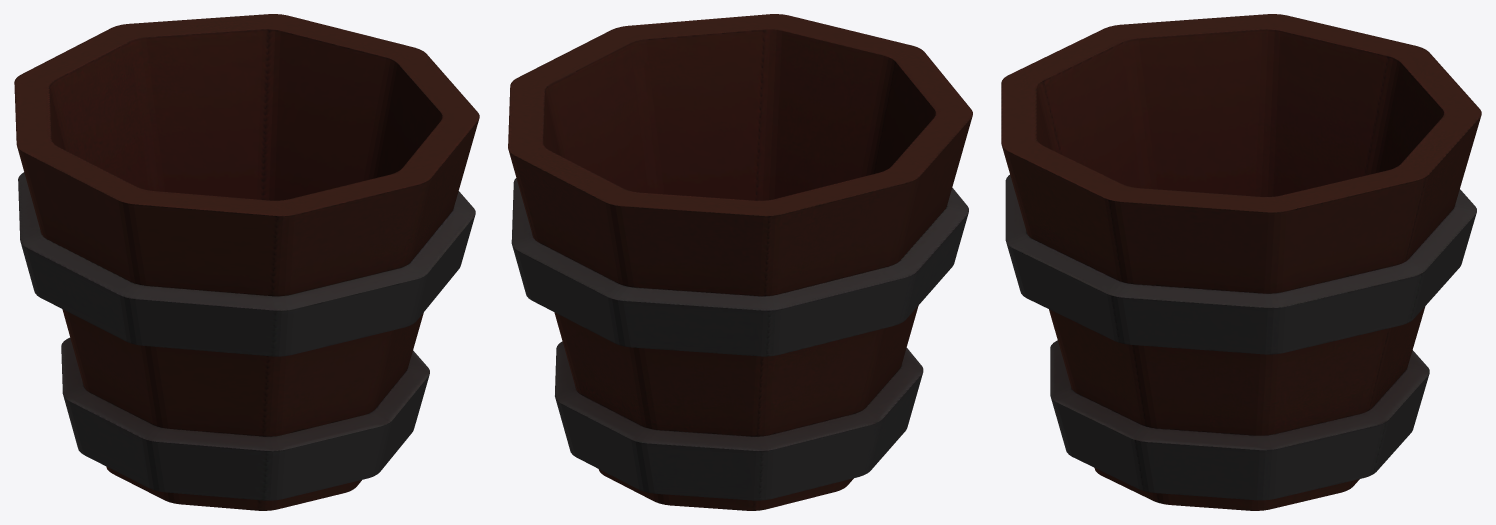
The model's file is BucketFinal.glb.
3 views of the same model, side by side, from view 1: azimuth 30°, elevation 25°; view 2: azimuth 150°, elevation 25°; view 3: azimuth 270°, elevation 25° (orthographic).
Visible parts, largest first — view 1: Cylinder; view 2: Cylinder; view 3: Cylinder.
Boxes of the visible parts, x1,y1,x2,y2 form: Cylinder: (14, 14, 479, 510); Cylinder: (508, 14, 972, 510); Cylinder: (1001, 14, 1481, 510).
Bounding box in the file's own units: 0.5691 × 0.4517 × 0.5814.
Materials: 2 (2 with a texture image).
